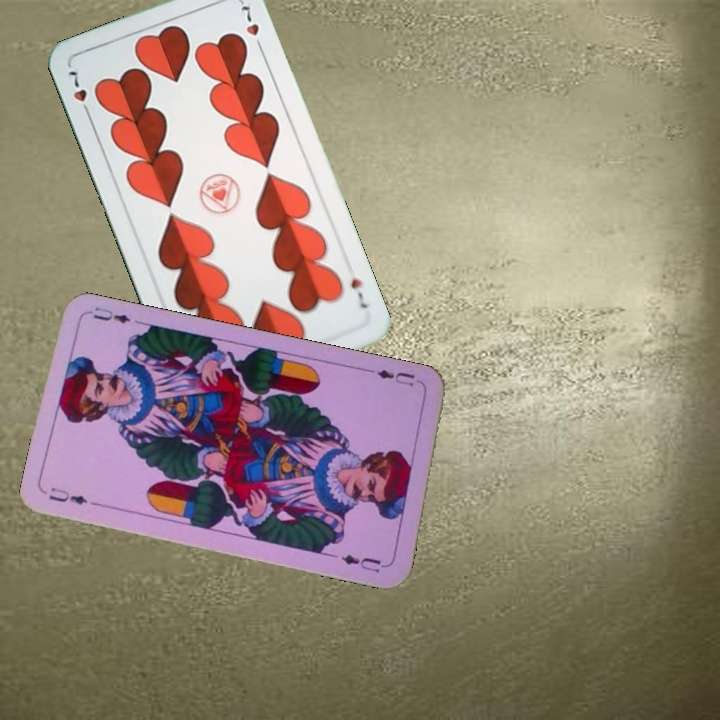EU: (373, 365, 425, 389), (45, 483, 90, 508)
H7: (63, 66, 94, 120), (346, 274, 370, 312)
